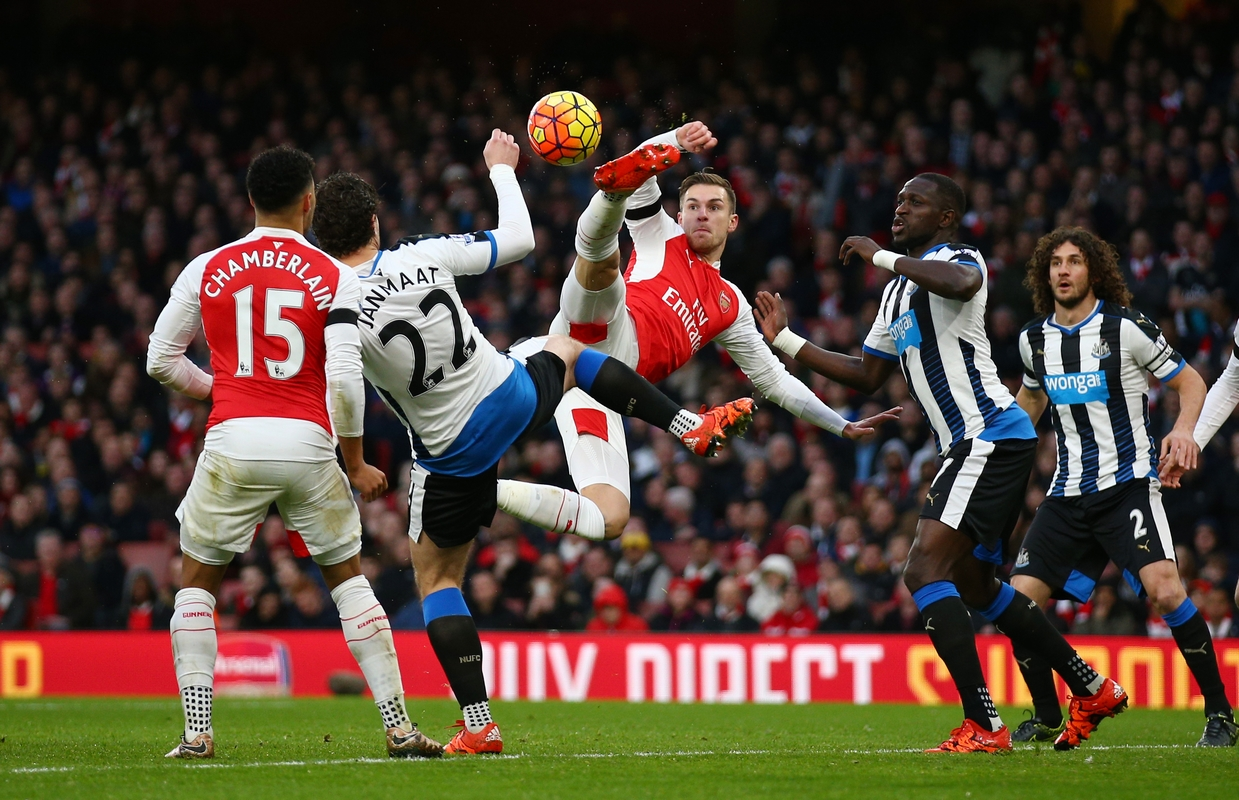ball: (528, 90, 601, 166)
